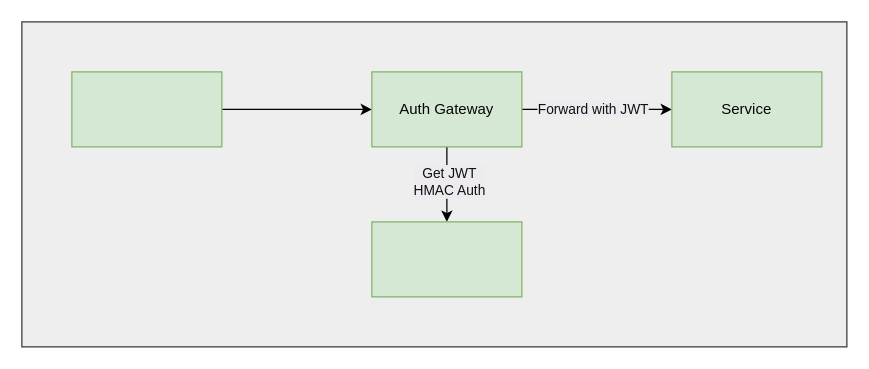
The diagram is 869 pixels wide and 369 high, and some of its shapes have lost their labels. Here are the shapes that lost their labels. From the top down, the centre of each, then its label:
(x=146, y=109): Client
(x=446, y=259): Auth Server
